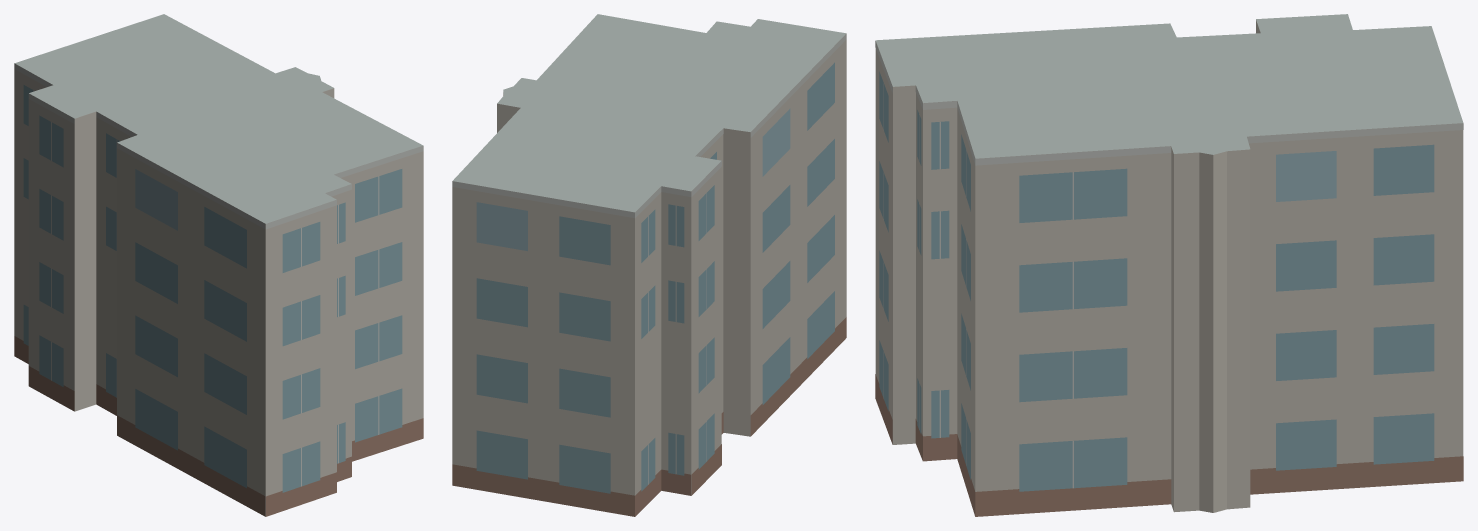
File: survey-upis-32765129.glb
The picture shows the model from 3 angles, left to right: view 1: azimuth 30°, elevation 25°; view 2: azimuth 150°, elevation 25°; view 3: azimuth 270°, elevation 25°; orthographic projection. The views are drawn at different scales.
Parts seen in each view (by area): view 1: survey-upis-32765129.tmp; view 2: survey-upis-32765129.tmp; view 3: survey-upis-32765129.tmp.
Part boxes in pixels (<box>): survey-upis-32765129.tmp: <box>14,14,423,516</box>; survey-upis-32765129.tmp: <box>452,14,846,516</box>; survey-upis-32765129.tmp: <box>875,14,1463,516</box>.
Size of the model in its own units: 11.01 by 12.7 by 18.91.
